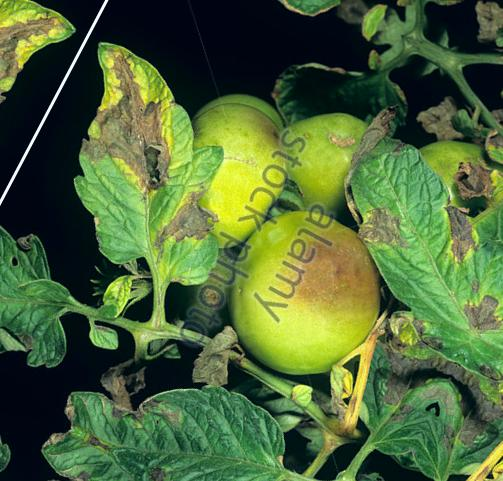Tomato leaf late blight: (3, 30, 281, 315), (285, 121, 503, 372), (49, 315, 341, 481)
